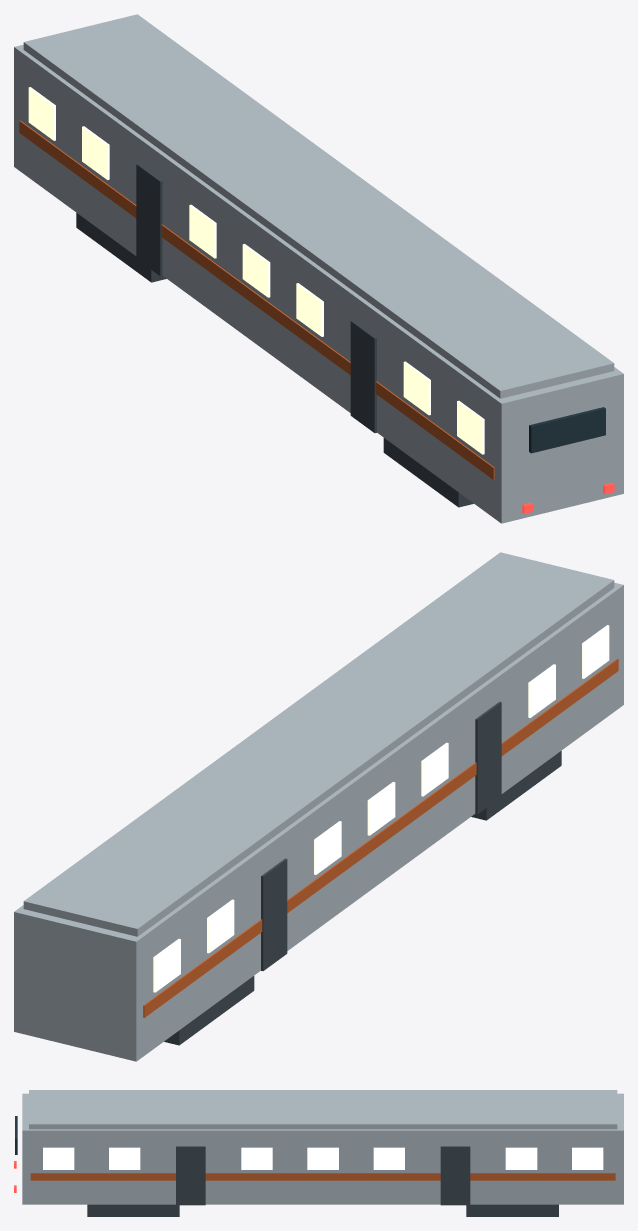
Rendered from subway-tail.glb.
The picture shows the model from 3 angles, top to bottom: view 1: azimuth 30°, elevation 25°; view 2: azimuth 150°, elevation 25°; view 3: azimuth 270°, elevation 25°; orthographic projection. The views are drawn at different scales.
Bounding box in the file's own units: 2.73 × 3.14 × 18.45.
